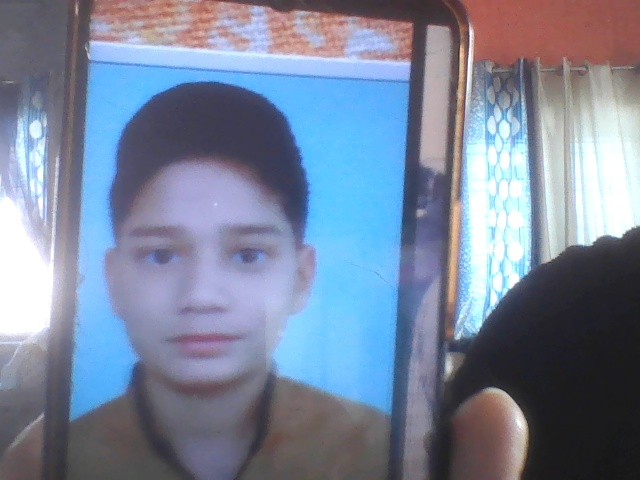fake: (92, 86, 326, 417)
